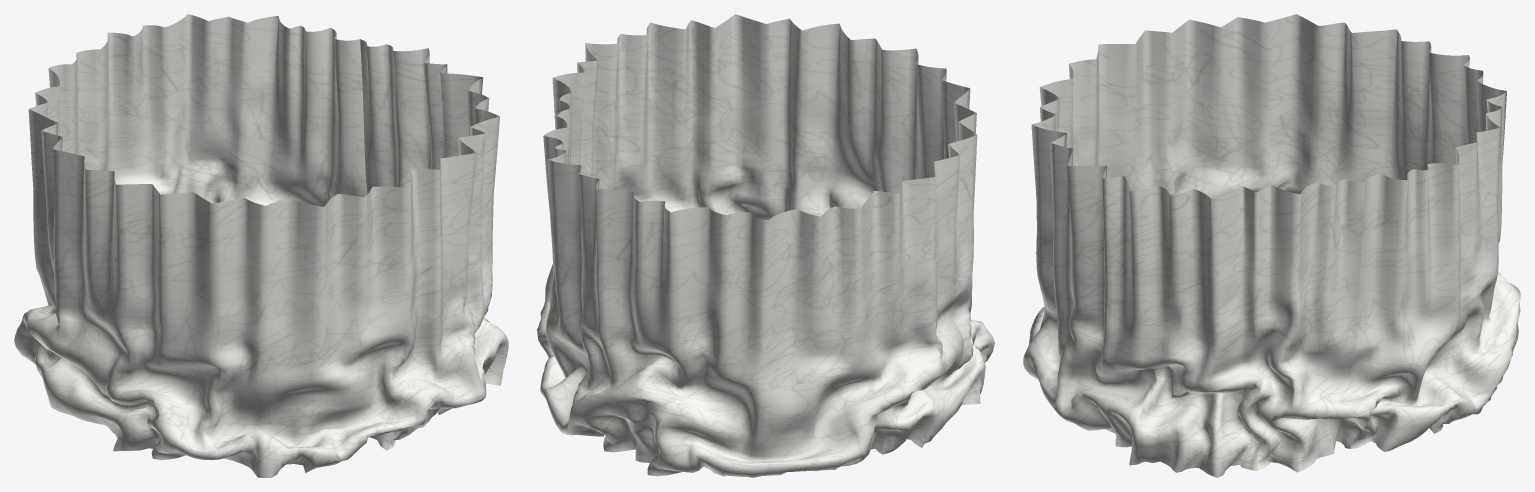
File: wall.fbx
The picture shows the model from 3 angles, left to right: view 1: azimuth 30°, elevation 25°; view 2: azimuth 150°, elevation 25°; view 3: azimuth 270°, elevation 25°; orthographic projection.
Parts seen in each view (by area): view 1: PaperWall; view 2: PaperWall; view 3: PaperWall.
Part boxes in pixels (left/top/right/bottom): PaperWall: left=14, top=14, right=508, bottom=477; PaperWall: left=537, top=14, right=994, bottom=477; PaperWall: left=1023, top=14, right=1520, bottom=477.
Size of the model in its own units: 46.44 by 30.19 by 49.03.
